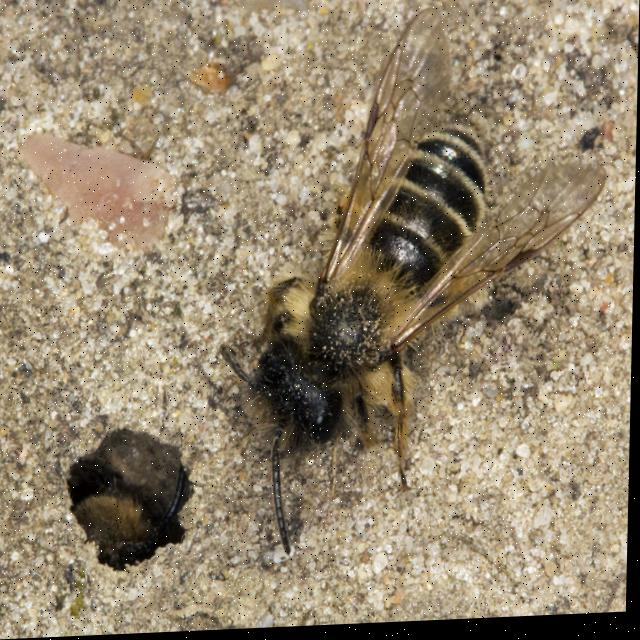Apis-mellifera-scutellata: (203, 0, 622, 558)
